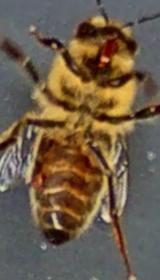varroa_mite: (24, 168, 50, 196)
